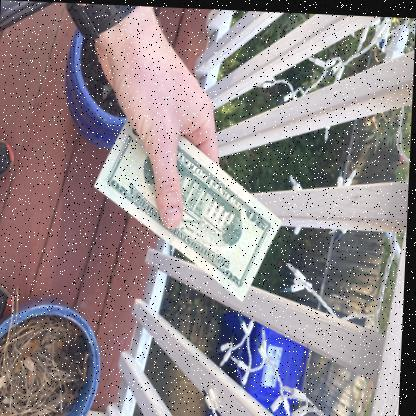dollar_back: (93, 96, 283, 300)
